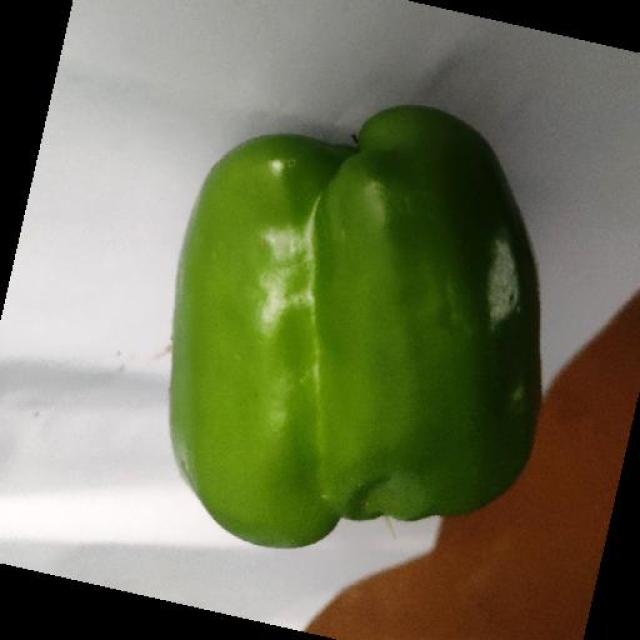Stale_Capsicum: (406, 214, 541, 507)
